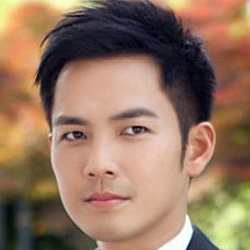unmask: (47, 92, 182, 238)
